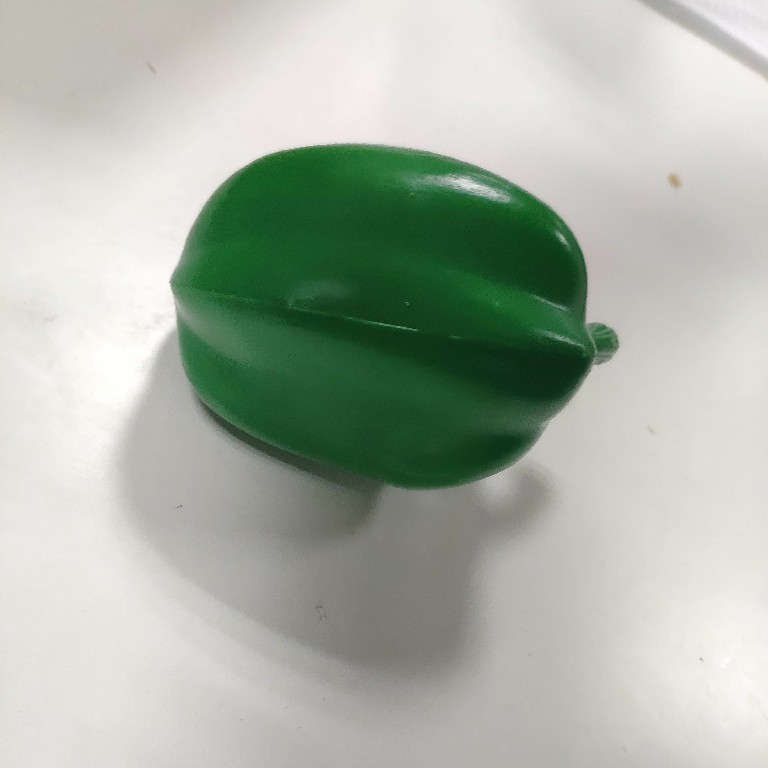fruit_pepper: (167, 139, 625, 496)
